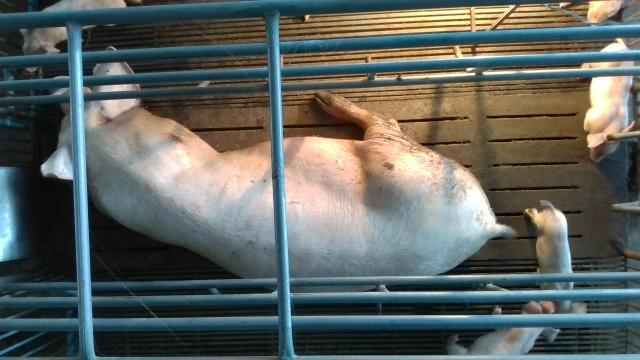piglet: (19, 0, 126, 73), (523, 200, 586, 313), (579, 37, 634, 164), (447, 301, 560, 356)
sow-sit: (41, 45, 515, 293)
